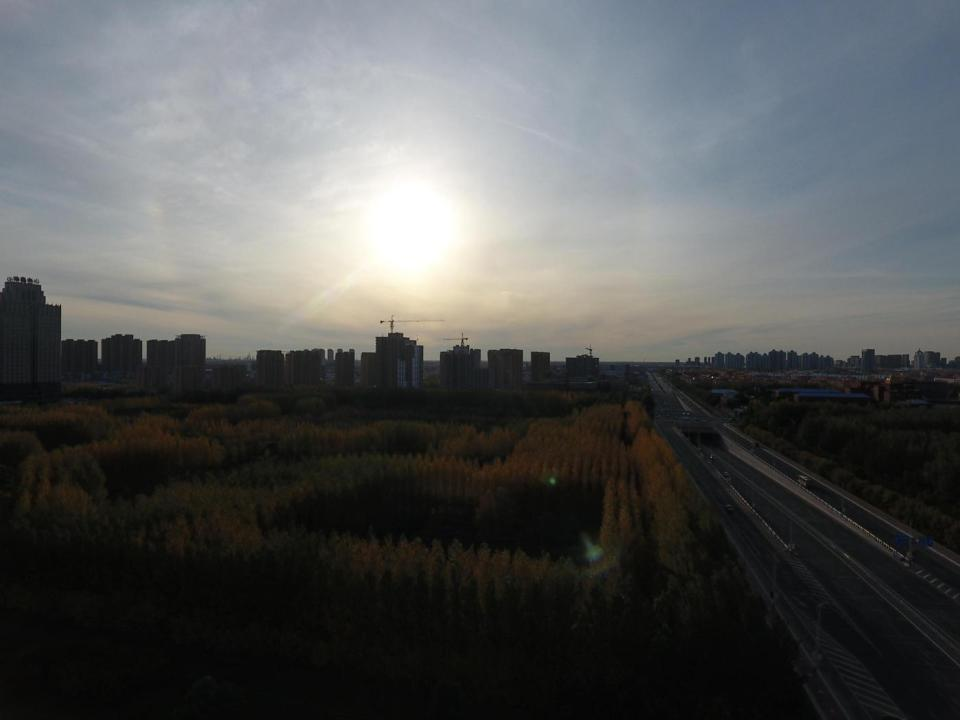bus: (795, 473, 813, 489), (752, 440, 760, 448)
car: (724, 504, 735, 513), (722, 470, 730, 478), (710, 453, 716, 460)
